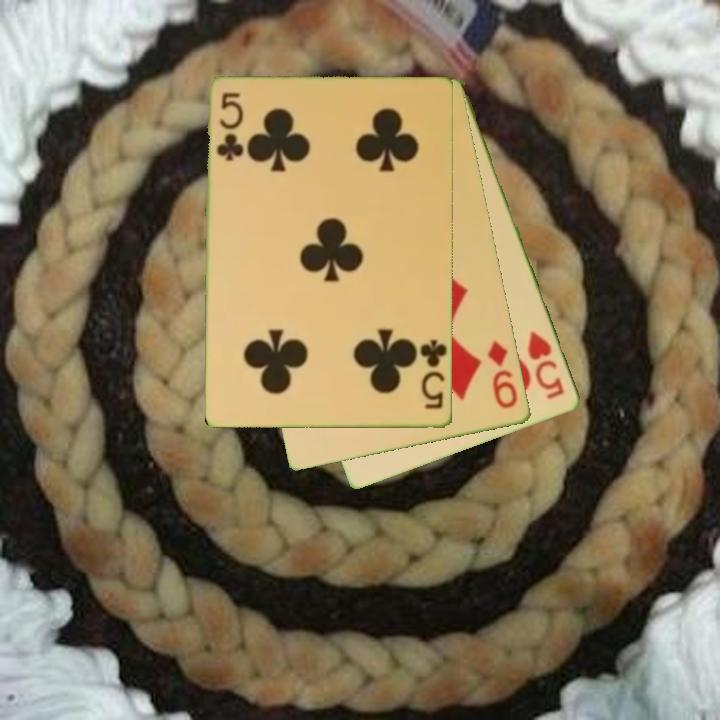5c: (417, 336, 449, 412), (214, 89, 244, 164)
5h: (524, 328, 568, 402)
9d: (484, 336, 521, 412)
